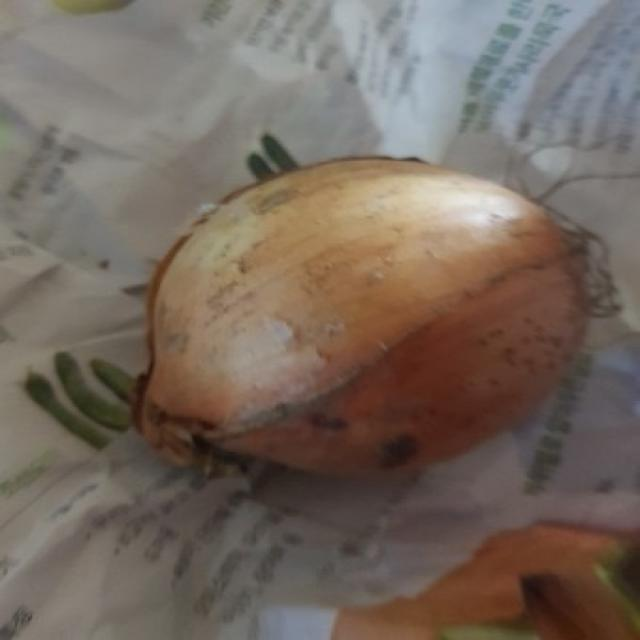onion: (133, 157, 618, 482)
